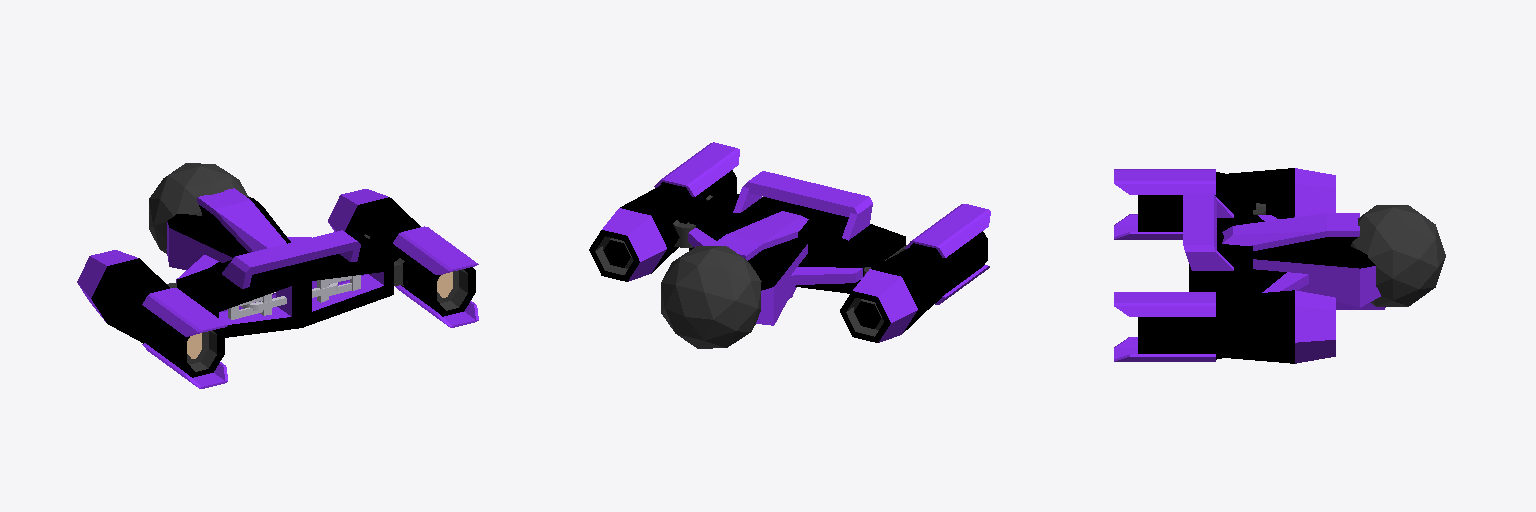
Rendered from DerixY.obj.
3 views of the same model, side by side, from view 1: azimuth 30°, elevation 25°; view 2: azimuth 150°, elevation 25°; view 3: azimuth 270°, elevation 25° (orthographic).
Parts seen in each view (by area): view 1: engine_high_42, engine_high_41, engine_side_7, engine_side_6, engine_airplane%_17, sphere_vertex_1, detail_spoilerSmall_34, engine_airplane%_18, ship_frontEdge_8, plane_tailPoint%_9, fence_woodGate_43, fence_simple%_44; view 2: sphere_vertex_1, engine_airplane%_17, engine_airplane%_18, engine_high_42, engine_side_7, detail_spoilerSmall_34, engine_high_41, ship_frontEdge_8, engine_side_6, plane_tailPoint%_9, wing_endLong_14, plane_tailPoint%_10 (+1 smaller); view 3: engine_airplane%_18, engine_high_41, sphere_vertex_1, engine_high_42, engine_airplane%_17, ship_frontEdge_8, plane_tailPoint%_9, detail_spoilerSmall_34, engine_side_6, wing_endLong_15, plane_tailPoint%_10, engine_side_7.
Boxes of the visible parts, <box> form: engine_high_42: <box>135,287,227,388</box>; engine_high_41: <box>386,226,478,327</box>; engine_side_7: <box>177,260,301,337</box>; engine_side_6: <box>295,235,393,327</box>; engine_airplane%_17: <box>77,250,169,343</box>; sphere_vertex_1: <box>149,163,248,253</box>; detail_spoilerSmall_34: <box>222,230,360,288</box>; engine_airplane%_18: <box>328,189,420,274</box>; ship_frontEdge_8: <box>197,188,286,252</box>; plane_tailPoint%_9: <box>169,198,290,269</box>; fence_woodGate_43: <box>228,275,360,319</box>; fence_simple%_44: <box>241,282,337,310</box>; sphere_vertex_1: <box>661,246,761,348</box>; engine_airplane%_17: <box>840,248,962,342</box>; engine_airplane%_18: <box>589,187,691,281</box>; engine_high_42: <box>905,204,990,304</box>; engine_side_7: <box>795,208,905,293</box>; detail_spoilerSmall_34: <box>733,171,872,240</box>; engine_high_41: <box>654,142,739,211</box>; ship_frontEdge_8: <box>711,211,808,266</box>; engine_side_6: <box>689,191,807,250</box>; plane_tailPoint%_9: <box>753,239,807,324</box>; wing_endLong_14: <box>791,253,864,284</box>; plane_tailPoint%_10: <box>756,273,773,325</box>; engine_airplane%_18: <box>1187,290,1335,363</box>; engine_high_41: <box>1114,292,1230,361</box>; sphere_vertex_1: <box>1351,205,1445,306</box>; engine_high_42: <box>1114,169,1230,239</box>; engine_airplane%_17: <box>1220,168,1335,218</box>; ship_frontEdge_8: <box>1222,213,1359,251</box>; plane_tailPoint%_9: <box>1253,246,1359,307</box>; detail_spoilerSmall_34: <box>1183,193,1233,270</box>; engine_side_6: <box>1189,237,1252,295</box>; wing_endLong_15: <box>1253,269,1308,293</box>; plane_tailPoint%_10: <box>1360,251,1380,307</box>; engine_side_7: <box>1217,202,1252,236</box>.
Bounding box in the file's own units: 3.39 × 1 × 3.1.